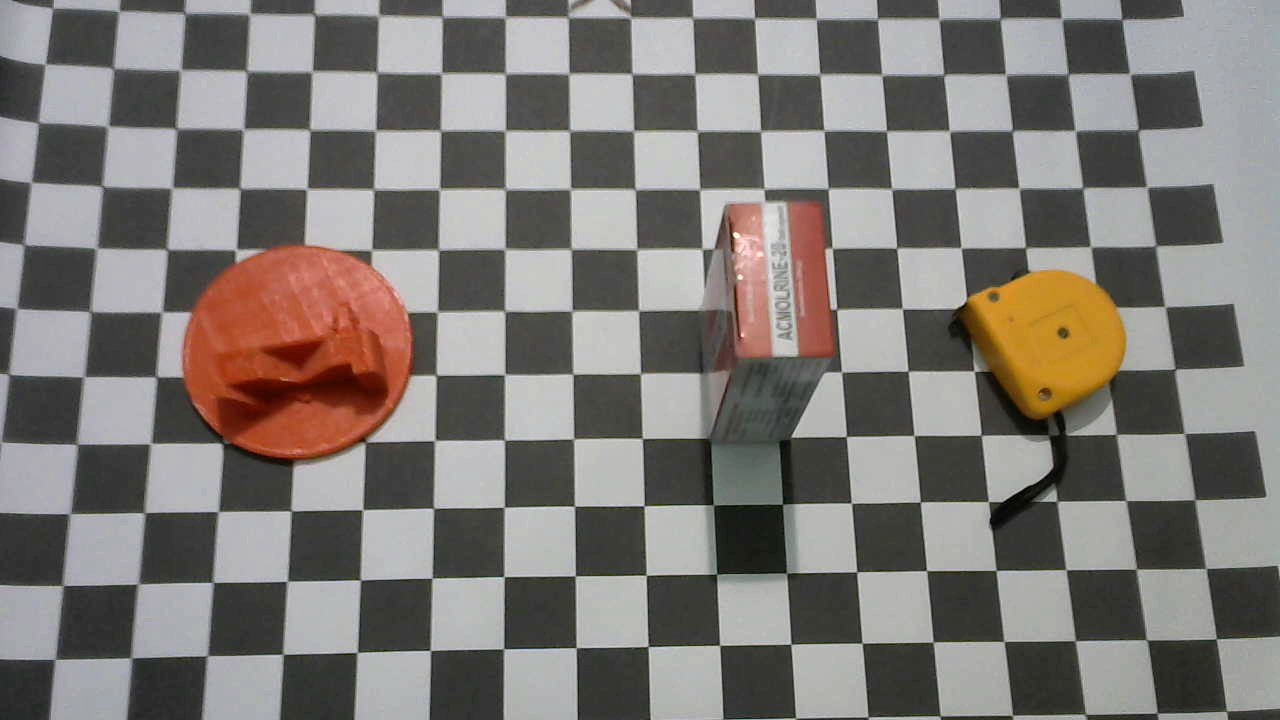blue: (948, 266, 1126, 423)
green: (177, 244, 415, 466)
red: (703, 200, 829, 450)
